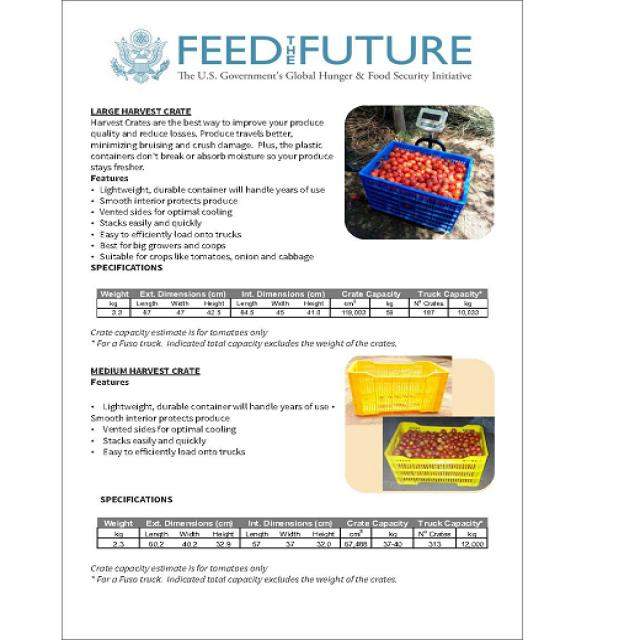basket: (351, 136, 477, 234), (383, 421, 492, 490), (348, 361, 450, 417)
